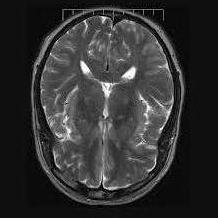Normal_Brain: (1, 1, 209, 216)
